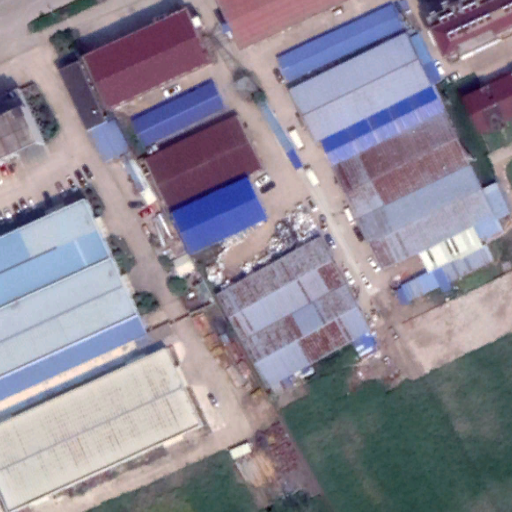msw: (242, 211, 322, 274)
